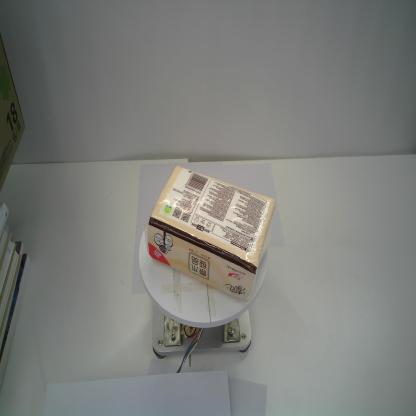Tissue: (145, 163, 276, 301)
